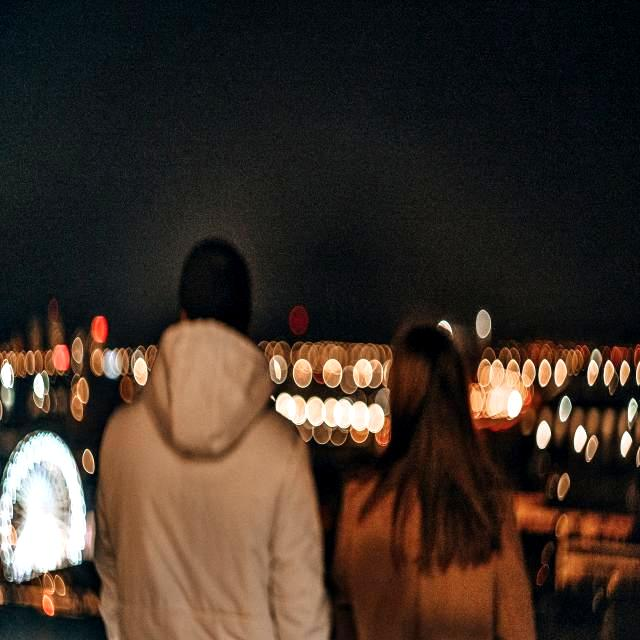no_head_wear: (178, 238, 251, 333), (393, 322, 466, 382)
person: (95, 239, 330, 638), (333, 324, 535, 640)
